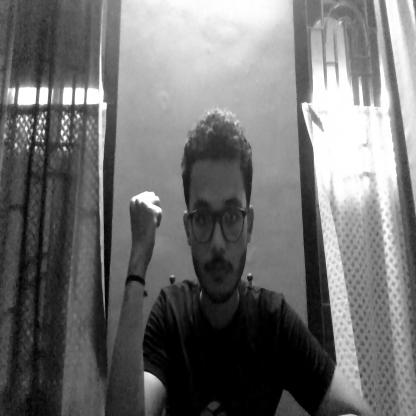Normal: (178, 116, 253, 296)
